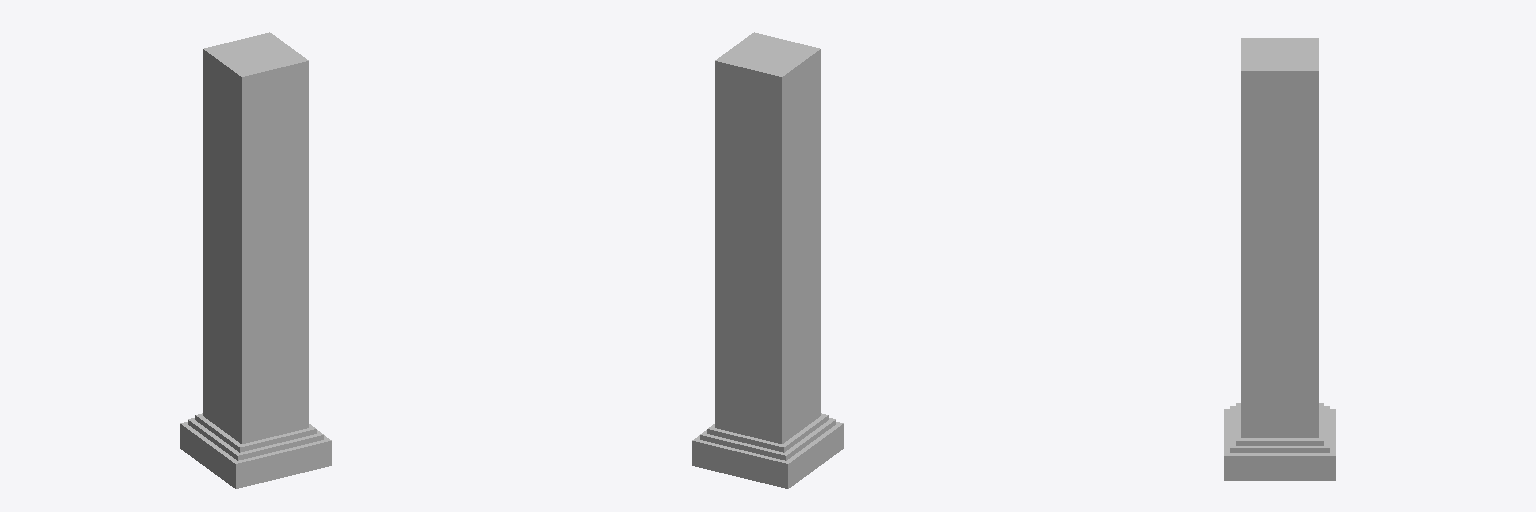
Rendered from pillar.obj.
The picture shows the model from 3 angles: view 1: azimuth 30°, elevation 25°; view 2: azimuth 150°, elevation 25°; view 3: azimuth 270°, elevation 25°; orthographic projection.
Visible parts, largest first — view 1: Pillar_Cube.007; view 2: Pillar_Cube.007; view 3: Pillar_Cube.007.
Boxes of the visible parts, x1=… form: Pillar_Cube.007: x1=180, y1=32, x2=331, y2=488; Pillar_Cube.007: x1=692, y1=32, x2=843, y2=488; Pillar_Cube.007: x1=1224, y1=38, x2=1335, y2=480.
Bounding box in the file's own units: 2 × 8 × 2.